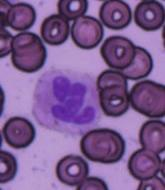N: (30, 68, 100, 136)
